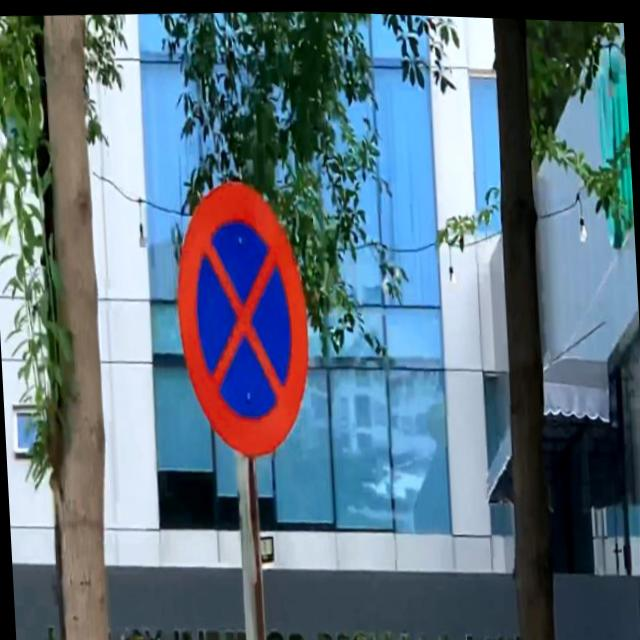Cam dung xe va do xe: (164, 162, 319, 473)
